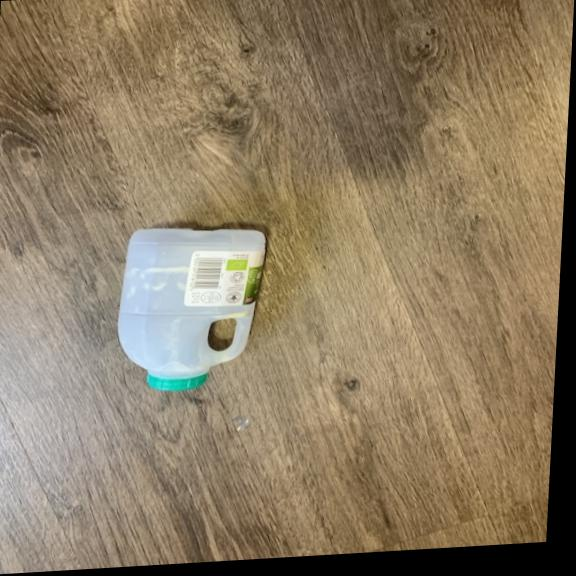Plastik: (108, 215, 269, 398)
